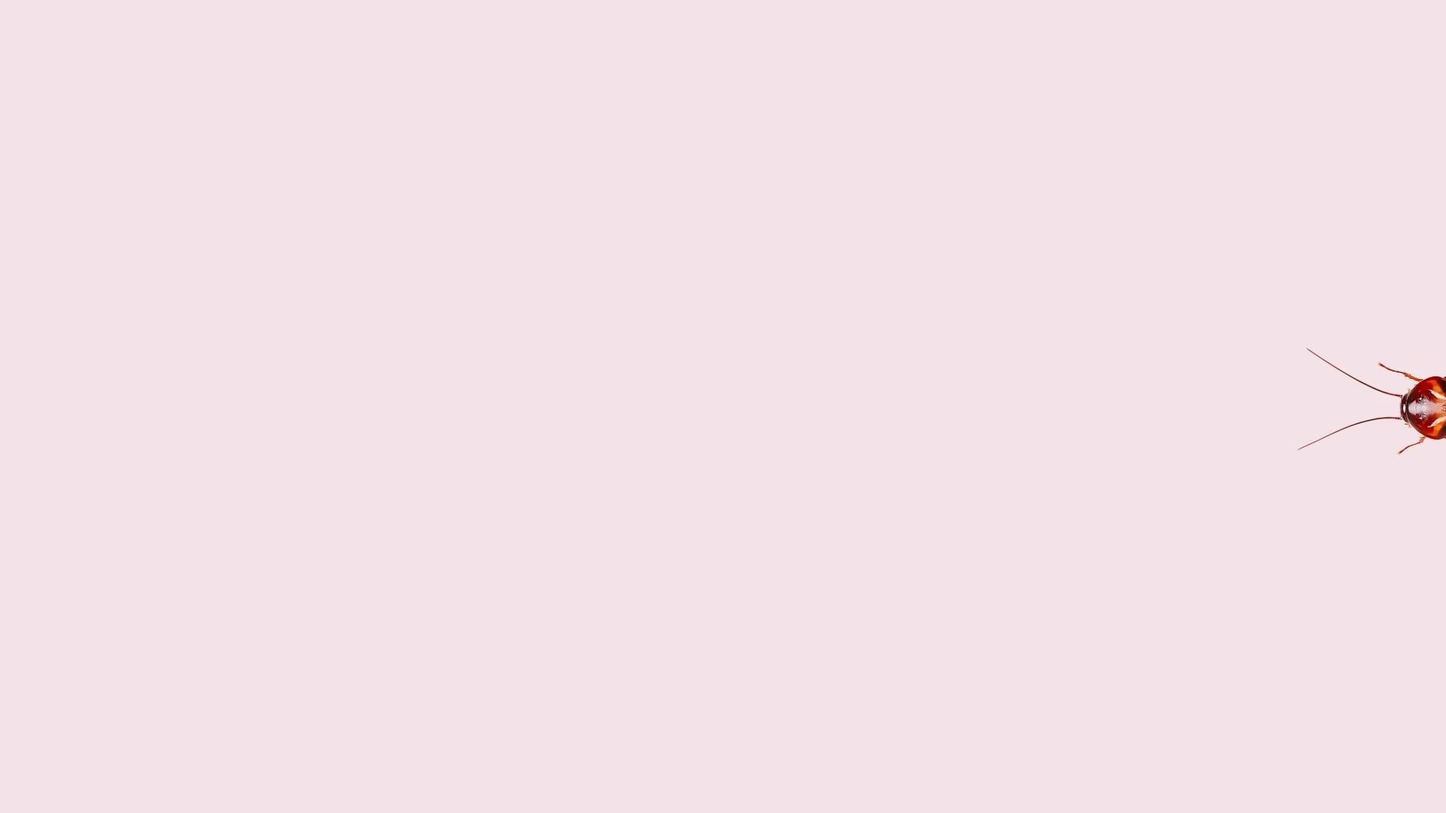cockroach: (1269, 311, 1446, 479)
